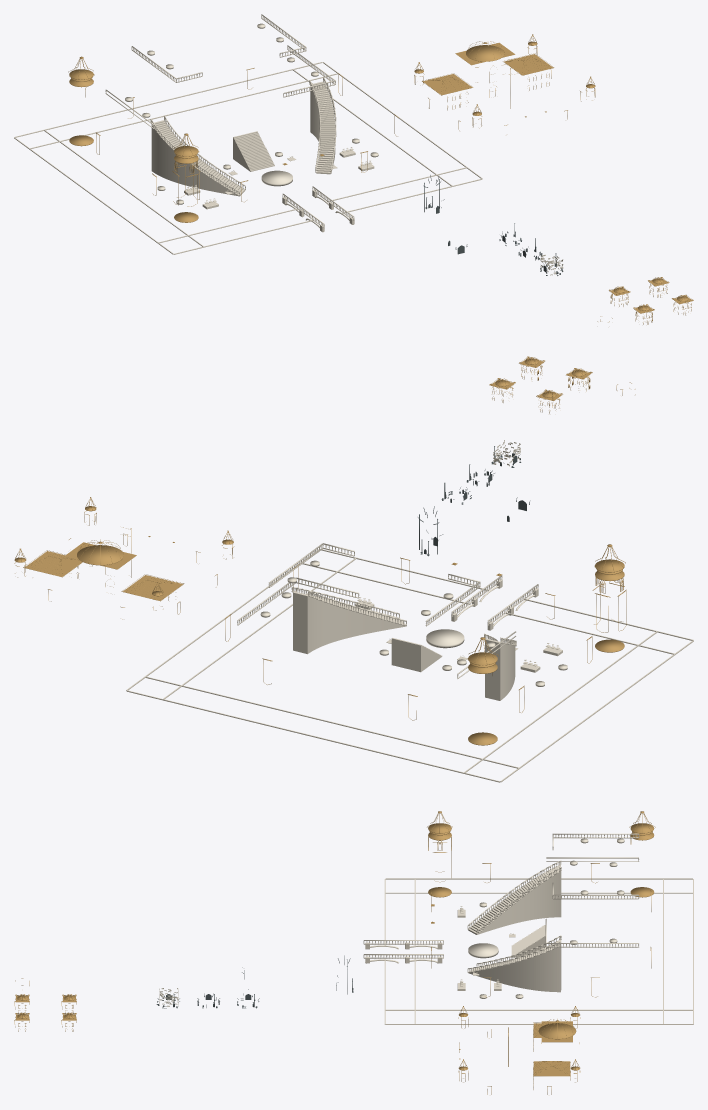
The model's file is Neris-27.glb.
3 renders of one model, top to bottom at view 1: azimuth 30°, elevation 25°; view 2: azimuth 150°, elevation 25°; view 3: azimuth 270°, elevation 25°, orthographic. The views are drawn at different scales.
Visible parts, largest first — view 1: Pale Carved Stone, Aged Gold, Patinated Iron.001; view 2: Pale Carved Stone, Aged Gold, Patinated Iron.001; view 3: Pale Carved Stone, Aged Gold.
Part boxes in pixels (x1,y1,x2,y2): Pale Carved Stone: (14,14,482,254); Aged Gold: (68,34,693,324); Patinated Iron.001: (423,175,562,275); Pale Carved Stone: (126,543,693,782); Aged Gold: (14,356,635,745); Patinated Iron.001: (418,446,530,556); Pale Carved Stone: (363,833,693,1024); Aged Gold: (14,811,655,1094).
Bounding box in the file's own units: 285 × 56.27 × 376.
